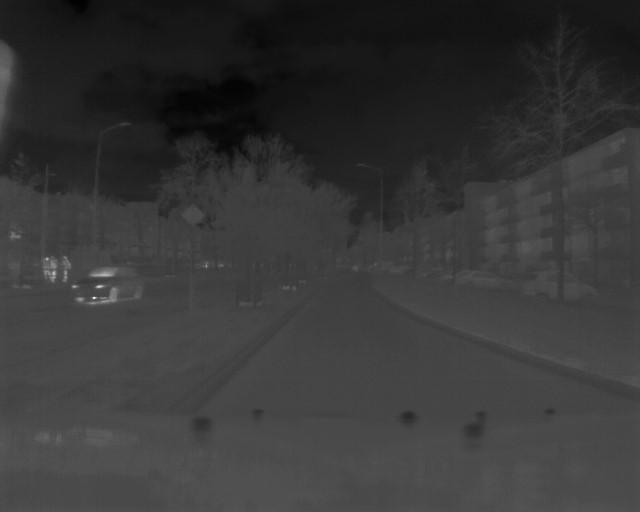car: (69, 260, 152, 301), (524, 268, 599, 302), (458, 273, 509, 290)
person: (45, 249, 57, 281), (59, 251, 71, 280)
